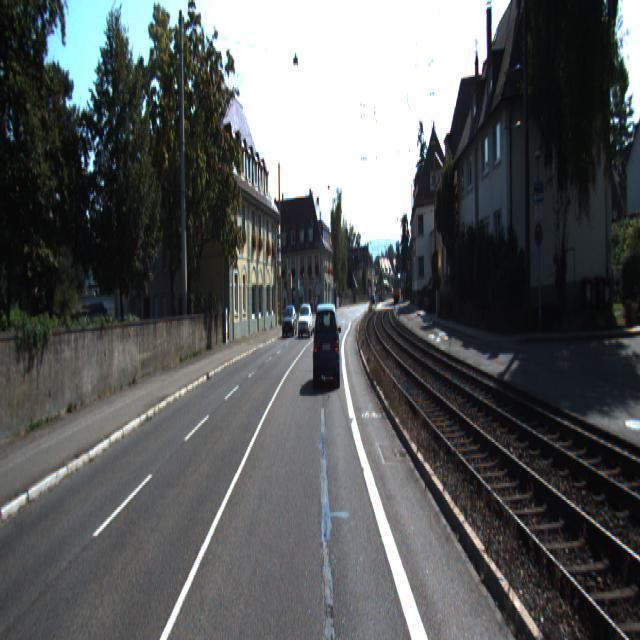Car: (312, 302, 341, 391), (298, 304, 314, 338), (282, 305, 298, 338)
